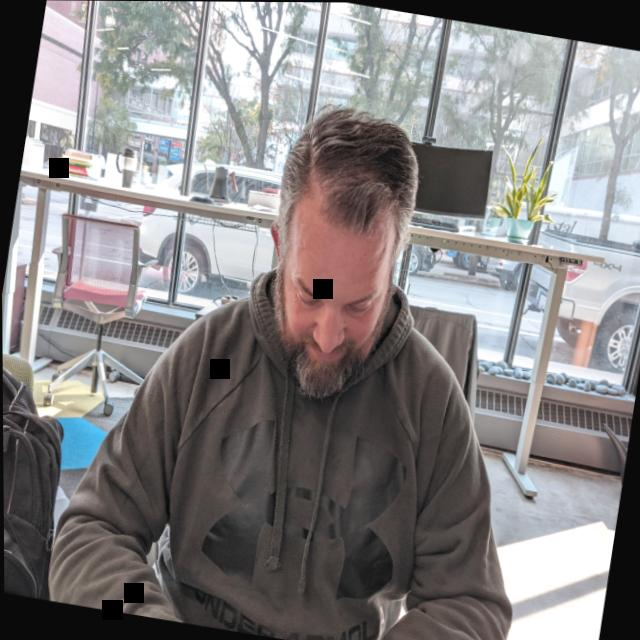NO-Mask: (253, 188, 408, 409)
